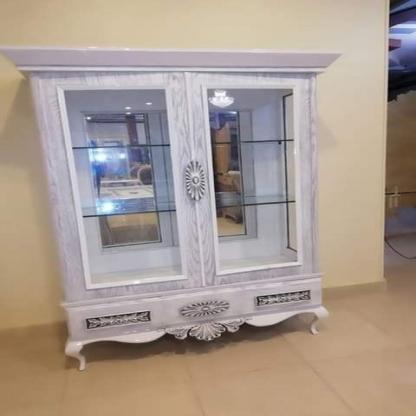Cupboard: (6, 51, 344, 369)
